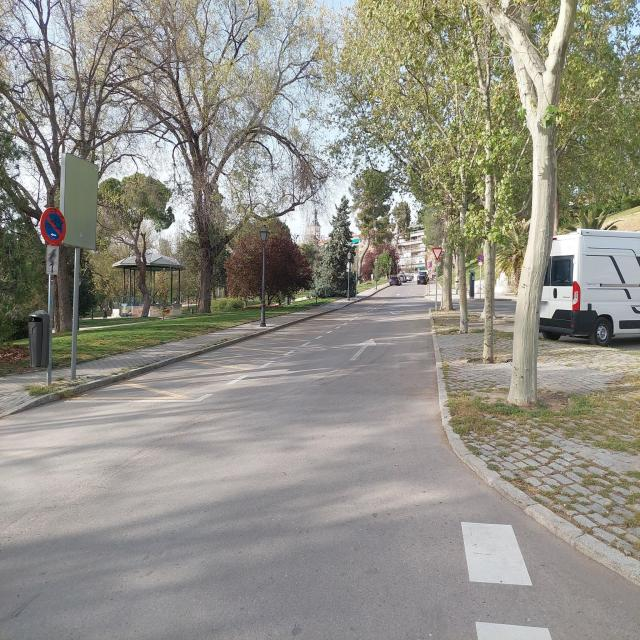forb_stopping: (40, 207, 67, 246), (478, 253, 484, 262)
